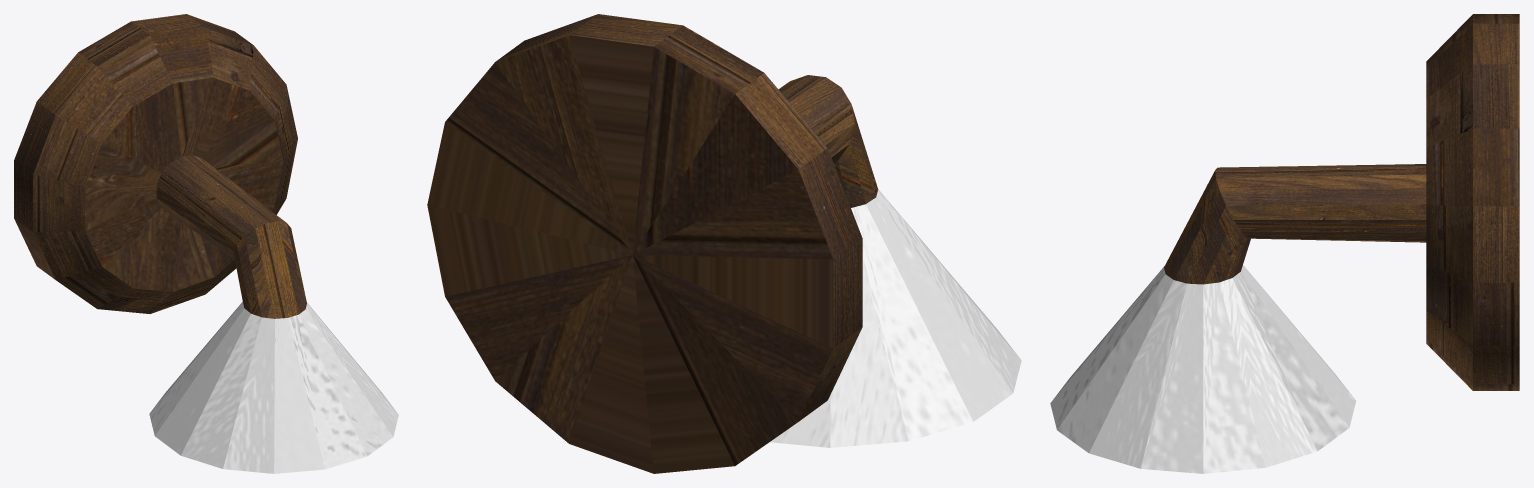
The model's file is Wall light.fbx.
3 renders of one model, left to right at view 1: azimuth 30°, elevation 25°; view 2: azimuth 150°, elevation 25°; view 3: azimuth 270°, elevation 25°, orthographic. The views are drawn at different scales.
Parts seen in each view (by area): view 1: pCylinder6; view 2: pCylinder6; view 3: pCylinder6.
Part boxes in pixels (x1,y1,x2,y2): pCylinder6: (14,14,398,473); pCylinder6: (427,14,1021,473); pCylinder6: (1050,14,1519,473).
Bounding box in the file's own units: 6.69 × 7.44 × 8.37.
Materials: 3 (3 with a texture image).
